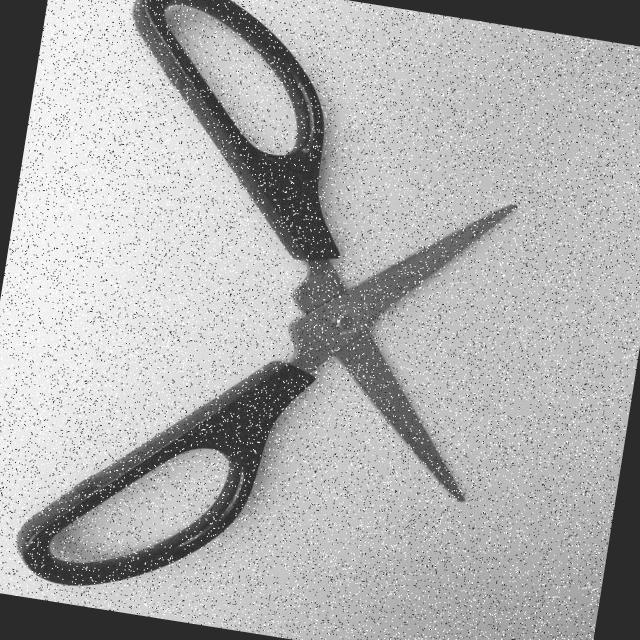scissors: (1, 0, 554, 640)
